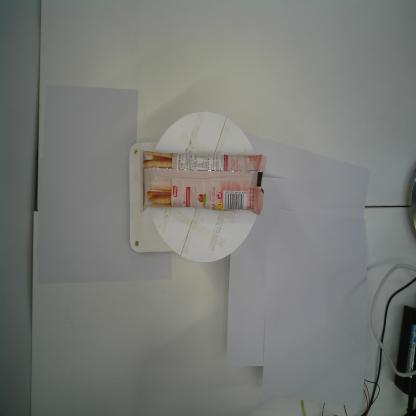Dessert: (136, 148, 270, 218)
